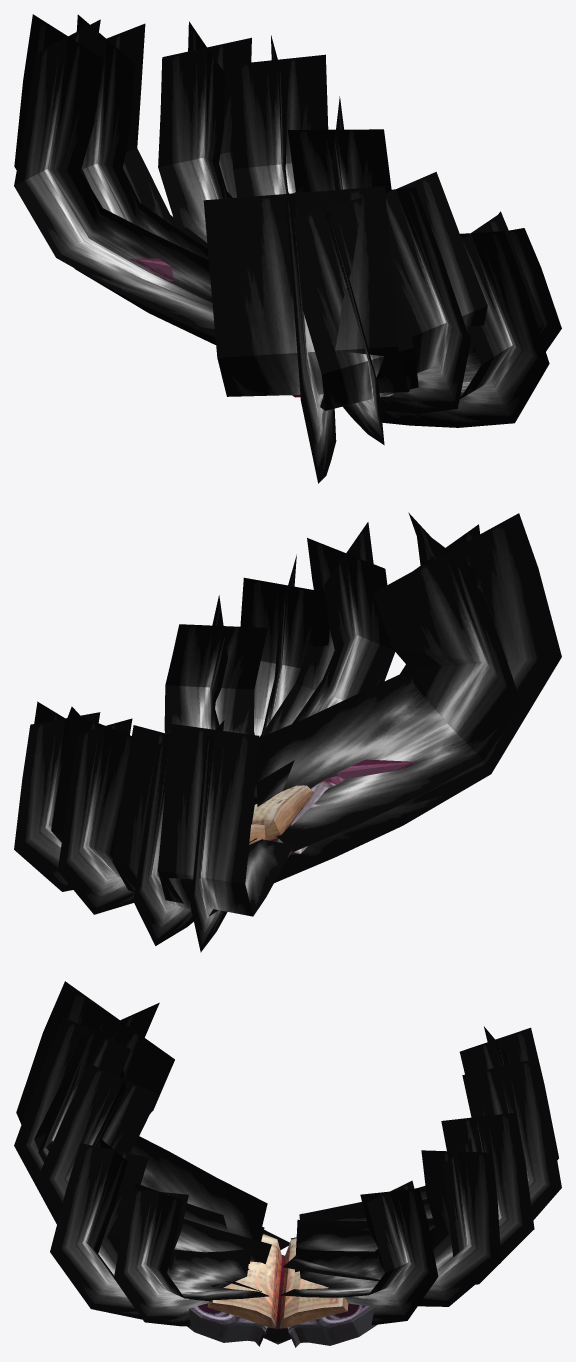
Rendered from common_righthanditem_101670.obj.
3 renders of one model, top to bottom at view 1: azimuth 30°, elevation 25°; view 2: azimuth 150°, elevation 25°; view 3: azimuth 270°, elevation 25°, orthographic. The views are drawn at different scales.
Parts seen in each view (by area): view 1: Plane02, Plane13, Plane07, Plane06, Plane04, Plane10, Plane11, Plane09, Plane08, Plane05, common_leftHandShield_101670; view 2: Plane02, Plane13, Plane07, Plane10, Plane05, Plane11, Plane06, Plane09, common_leftHandShield_101670, Plane04; view 3: Plane02, Plane09, Plane05, Plane08, Plane06, common_leftHandShield_101670, Plane07, Plane11, Plane04, Plane10, Plane13.
Boxes of the visible parts, x1,y1,x2,y2 form: Plane02: (203,186,409,483); Plane13: (14,14,215,344); Plane07: (380,171,487,413); Plane06: (380,212,549,427); Plane04: (277,197,418,445); Plane10: (158,21,251,242); Plane11: (66,14,208,259); Plane09: (230,35,328,197); Plane08: (288,96,391,192); Plane05: (498,211,561,351); common_leftHandShield_101670: (129,258,392,400); Plane02: (253,512,561,882); Plane13: (158,720,293,952); Plane07: (259,522,394,737); Plane10: (51,712,257,914); Plane05: (164,595,267,735); Plane11: (112,725,255,945); Plane06: (240,554,329,736); Plane09: (14,701,100,891); common_leftHandShield_101670: (249,759,418,856); Plane04: (257,524,479,806); Plane02: (16,981,289,1287); Plane09: (283,1138,501,1306); Plane05: (114,1183,269,1326); Plane08: (280,1180,438,1325); Plane06: (50,1139,251,1319); common_leftHandShield_101670: (187,1234,377,1347); Plane07: (37,1064,271,1291); Plane11: (302,1055,561,1221); Plane04: (14,1017,264,1272); Plane10: (303,1103,534,1284); Plane13: (290,1026,558,1239).
Bounding box in the file's own units: 43.3 × 42.41 × 73.96.
Materials: 2 (2 with a texture image).
